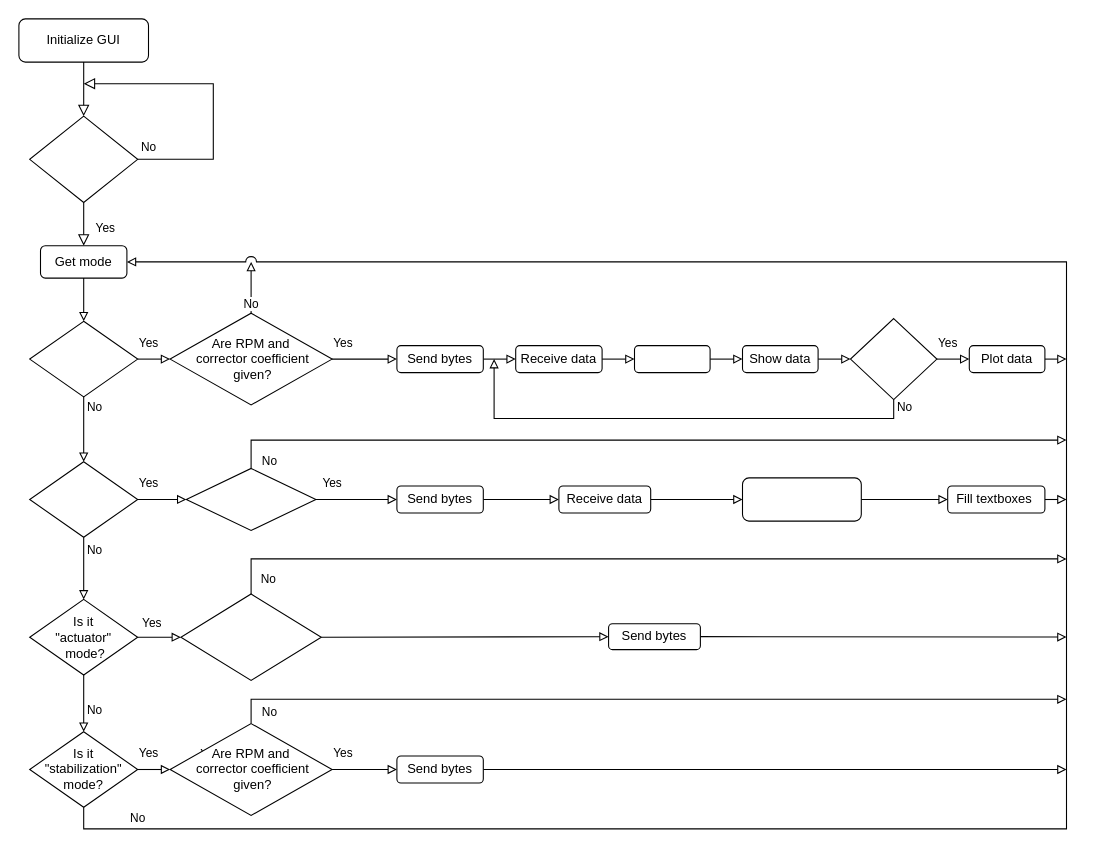
The diagram is 1094 pixels wide and 856 high, and some of its shapes have lost their labels. Each missing label, with the centre of its shape:
Are RPM and required torque given?: pixel 250 636
Calculate corrector coefficient: pixel 801 499
Is "stop" signal given?: pixel 893 359
Is it "calibration" mode?: pixel 83 499
Is it "sensor" mode?: pixel 83 358
Is RPM given?: pixel 250 498
Is the system connected?: pixel 83 158
Log data: pixel 671 359
